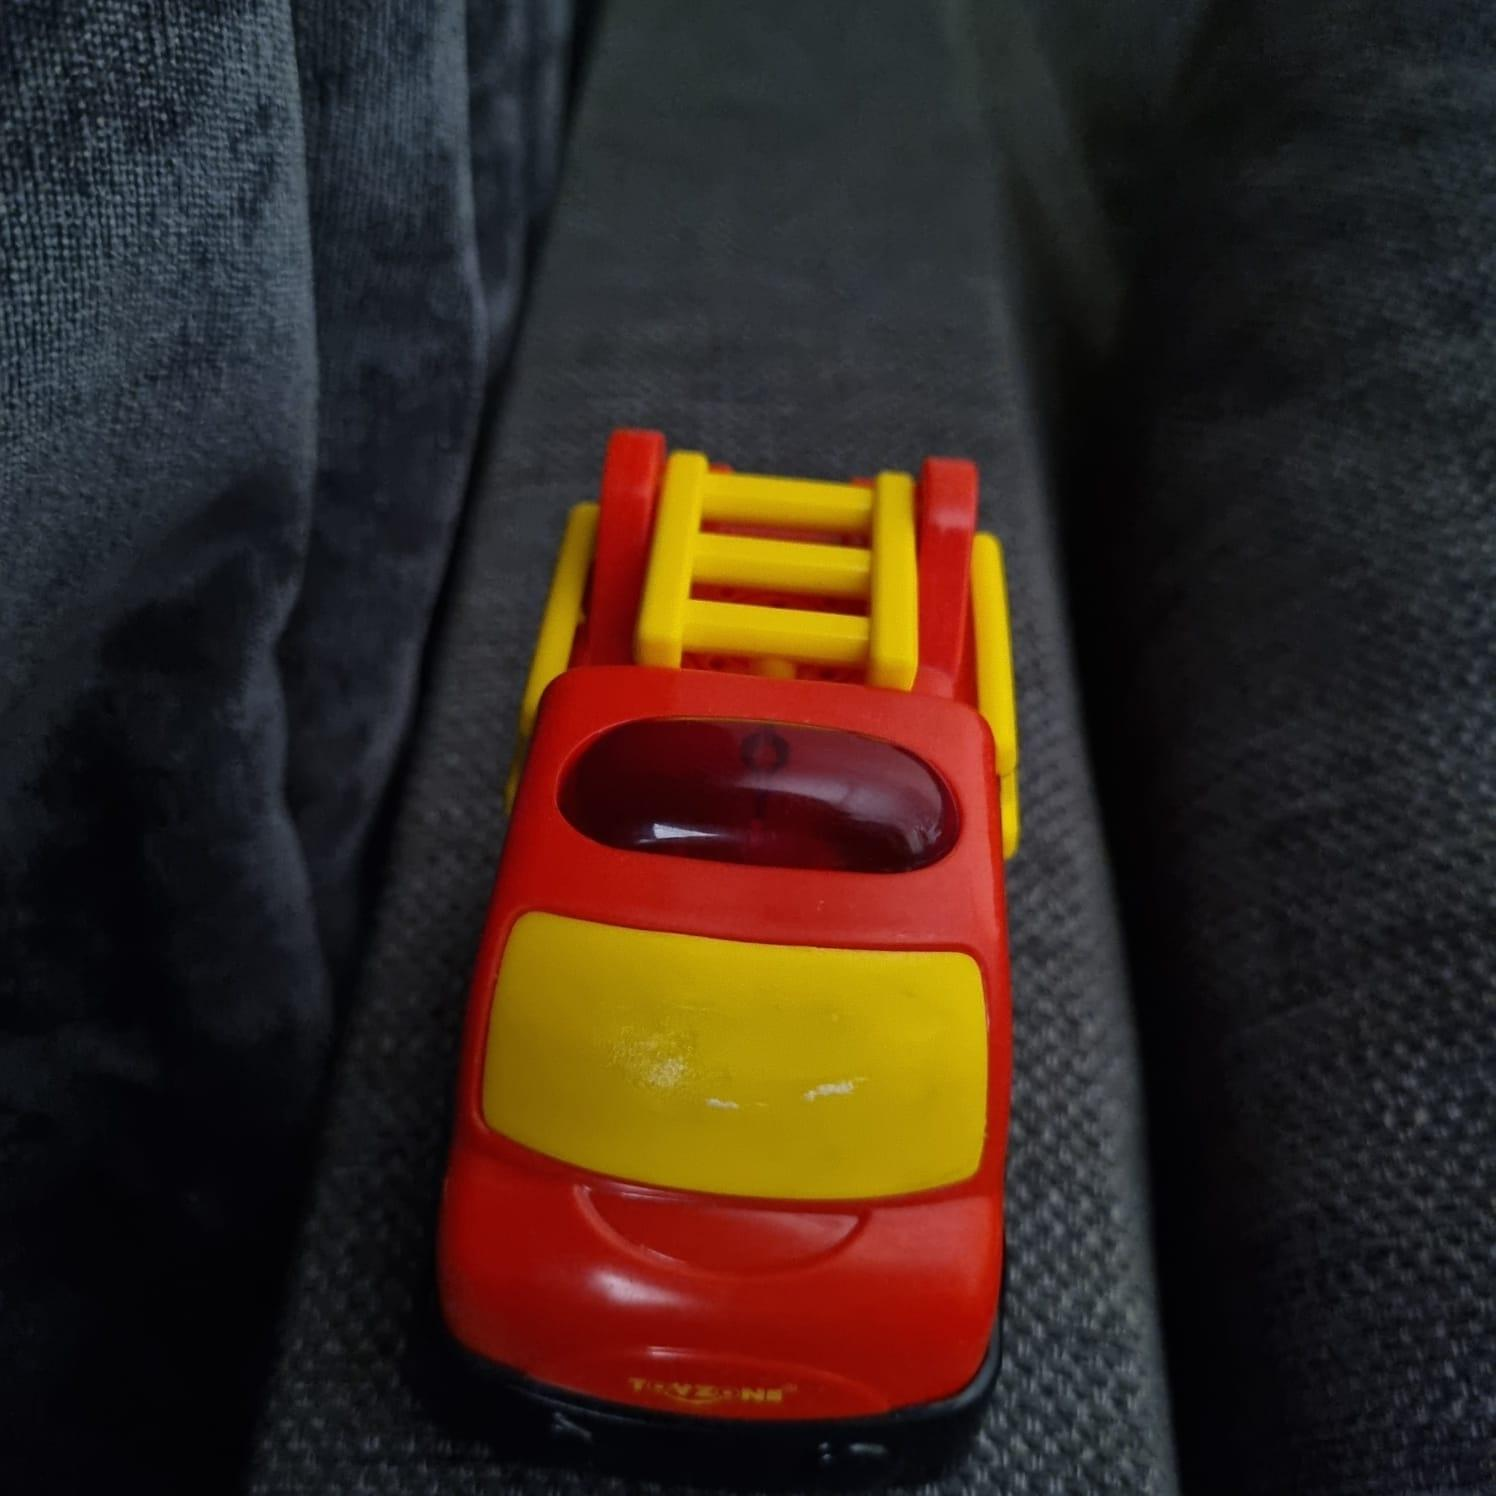firetruck_off: (432, 430, 1018, 1480)
